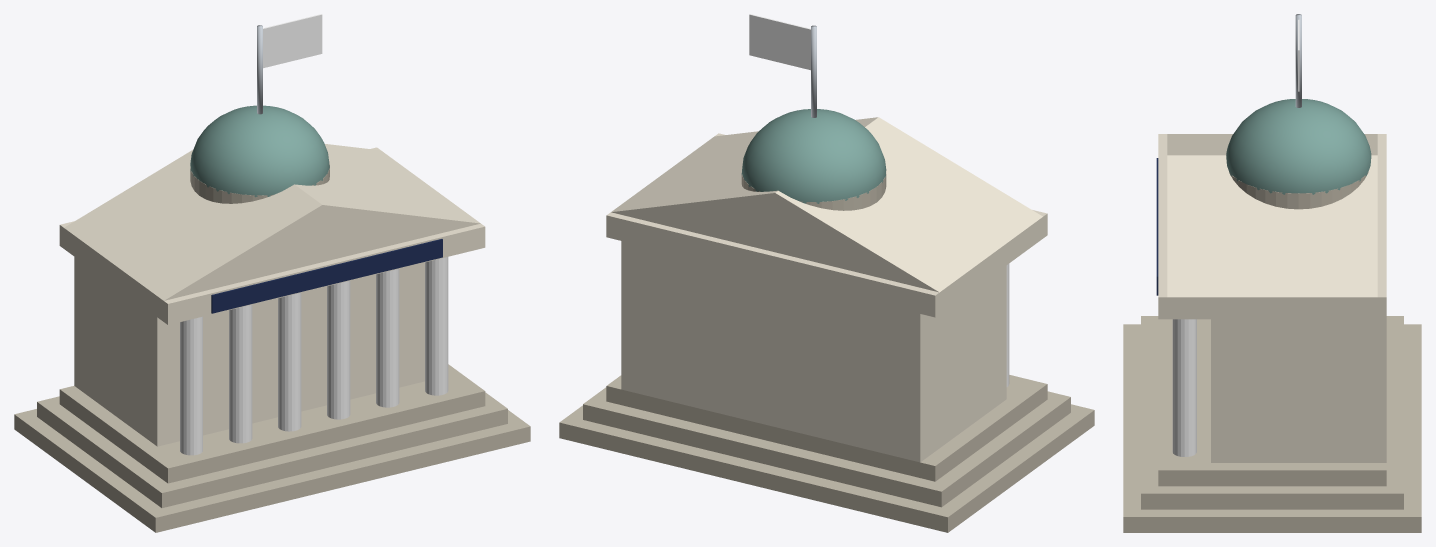
File: congreso.glb
The picture shows the model from 3 angles, left to right: view 1: azimuth 30°, elevation 25°; view 2: azimuth 150°, elevation 25°; view 3: azimuth 270°, elevation 25°; orthographic projection. The views are drawn at different scales.
Parts seen in each view (by area): view 1: fronton, Cube.003, Cube.002, Cube, Cube.001, Sphere, Cube.004, letrero, Cylinder.002, Cylinder.003, Cylinder.001, Cylinder.004 (+4 smaller); view 2: Cube.003, fronton, Cube, Cube.001, Sphere, Cube.004, Cube.002, bandera, Cylinder.006; view 3: fronton, Cube.003, Cube, Cube.001, Sphere, Cube.002, Cube.004, Cylinder.005, Cylinder.006, Cylinder.007, letrero.
Part boxes in pixels (x1,y1,x2,y2): fronton: [64, 144, 480, 300]; Cube.003: [74, 257, 424, 446]; Cube.002: [59, 364, 485, 483]; Cube: [14, 409, 530, 532]; Cube.001: [37, 392, 507, 507]; Sphere: [190, 105, 329, 197]; Cube.004: [59, 147, 485, 324]; letrero: [211, 239, 442, 313]; Cylinder.002: [278, 292, 301, 431]; Cylinder.003: [327, 281, 350, 419]; Cylinder.001: [229, 304, 252, 443]; Cylinder.004: [376, 269, 399, 407]; Cube.003: [621, 233, 1006, 462]; fronton: [611, 117, 1042, 292]; Cube: [559, 404, 1094, 532]; Cube.001: [583, 387, 1070, 507]; Sphere: [741, 109, 886, 203]; Cube.004: [606, 133, 1047, 317]; Cube.002: [606, 375, 1047, 481]; bandera: [749, 14, 810, 70]; Cylinder.006: [741, 168, 886, 210]; fronton: [1167, 134, 1377, 297]; Cube.003: [1211, 319, 1386, 462]; Cube: [1123, 324, 1421, 532]; Cube.001: [1141, 316, 1403, 509]; Sphere: [1226, 99, 1371, 194]; Cube.002: [1158, 319, 1386, 486]; Cube.004: [1158, 134, 1386, 319]; Cylinder.005: [1172, 319, 1196, 456]; Cylinder.006: [1229, 172, 1368, 209]; Cylinder.007: [1295, 14, 1301, 107]; letrero: [1156, 158, 1158, 295].
Size of the model in its own units: 2.6 by 2.65 by 1.7.
